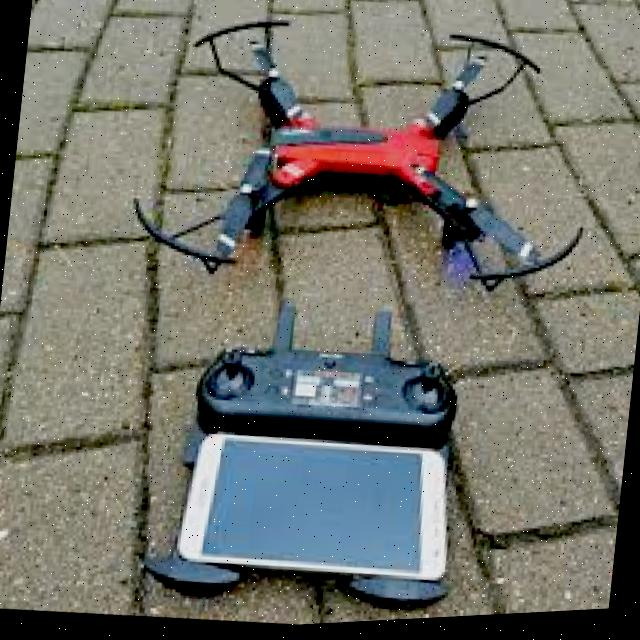drone: (117, 0, 612, 357)
